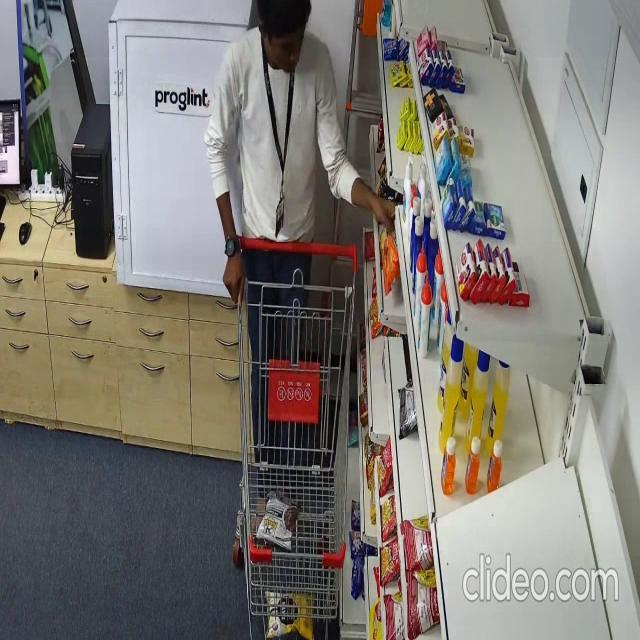normal: (207, 0, 402, 558)
